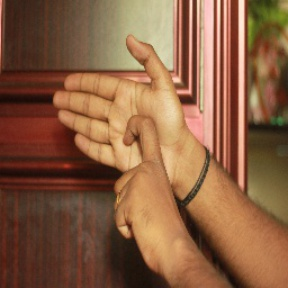R: (48, 34, 186, 203)
